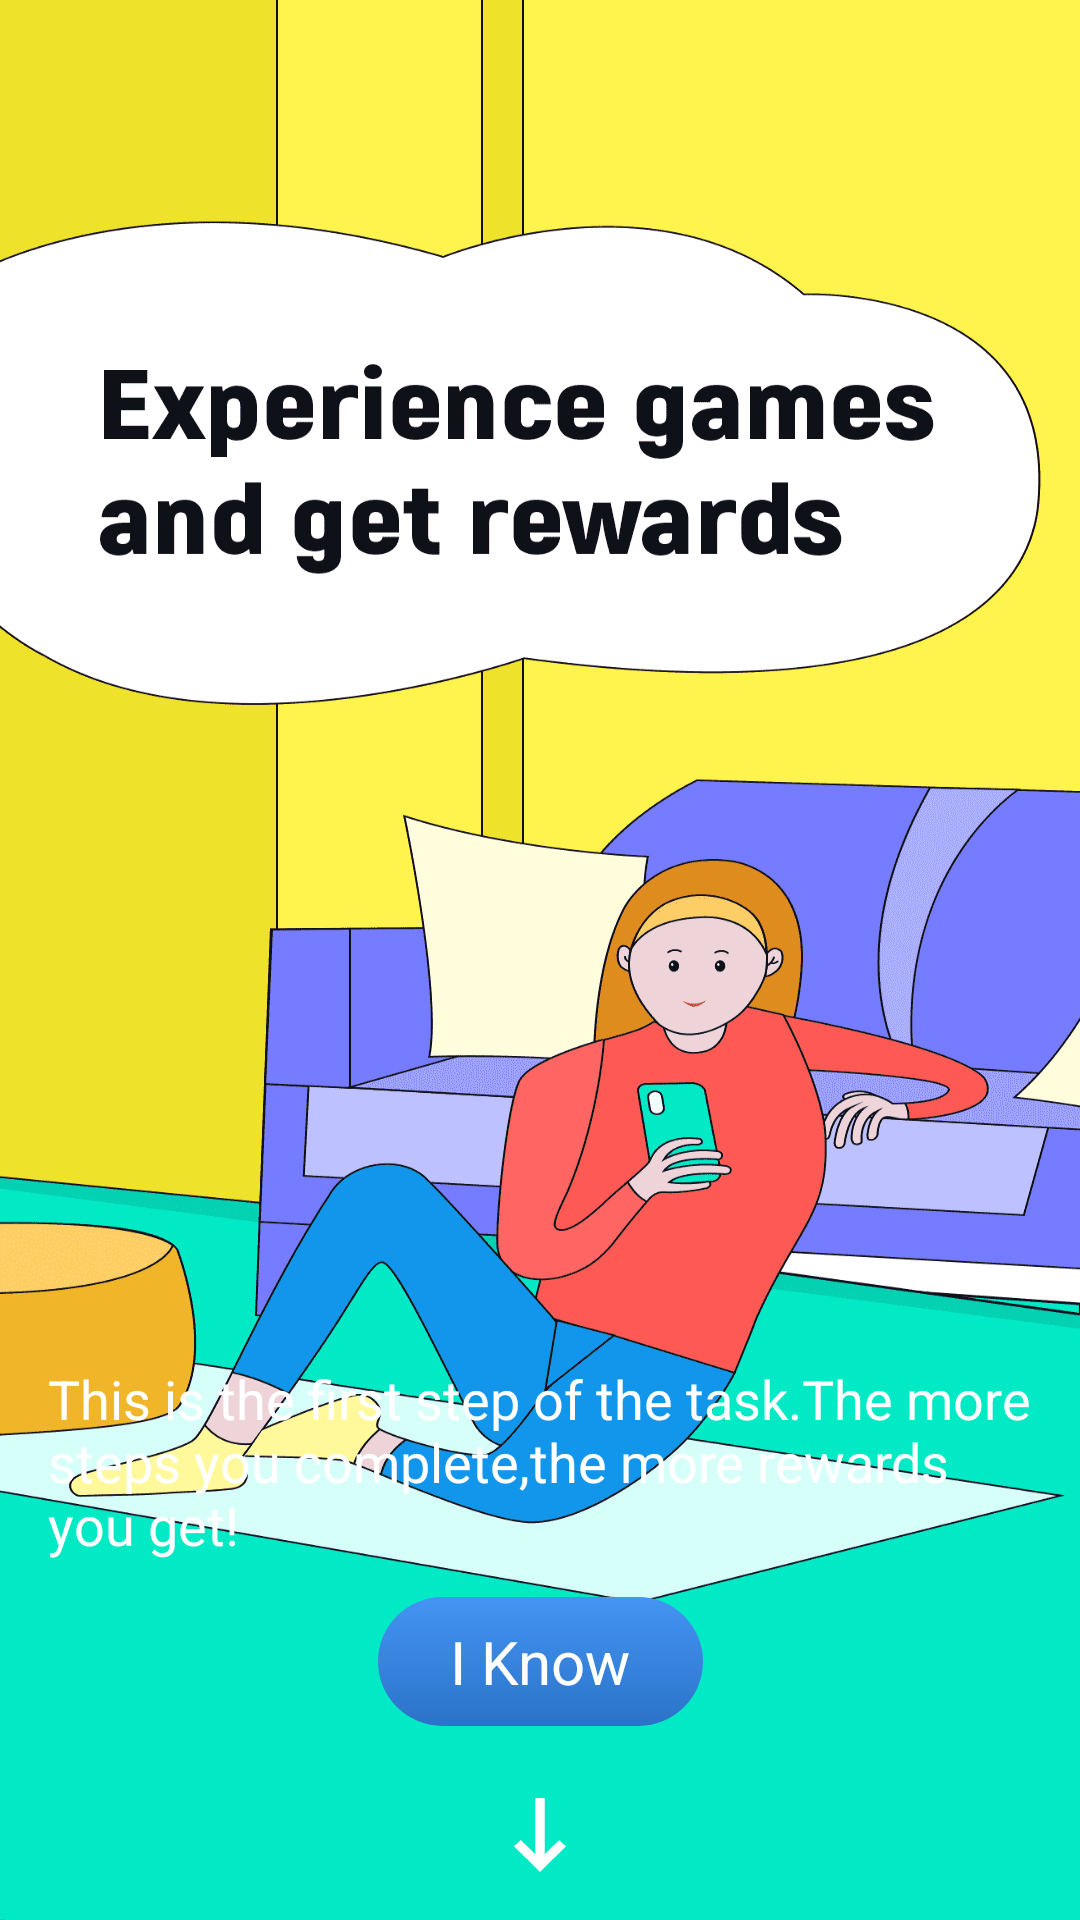

Icons on this 1080x1920 Android screen, each with its box as (x1, y1, x2, y2):
down: (514, 1798, 566, 1872)
